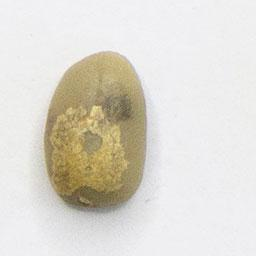longberry: (39, 46, 151, 214)
